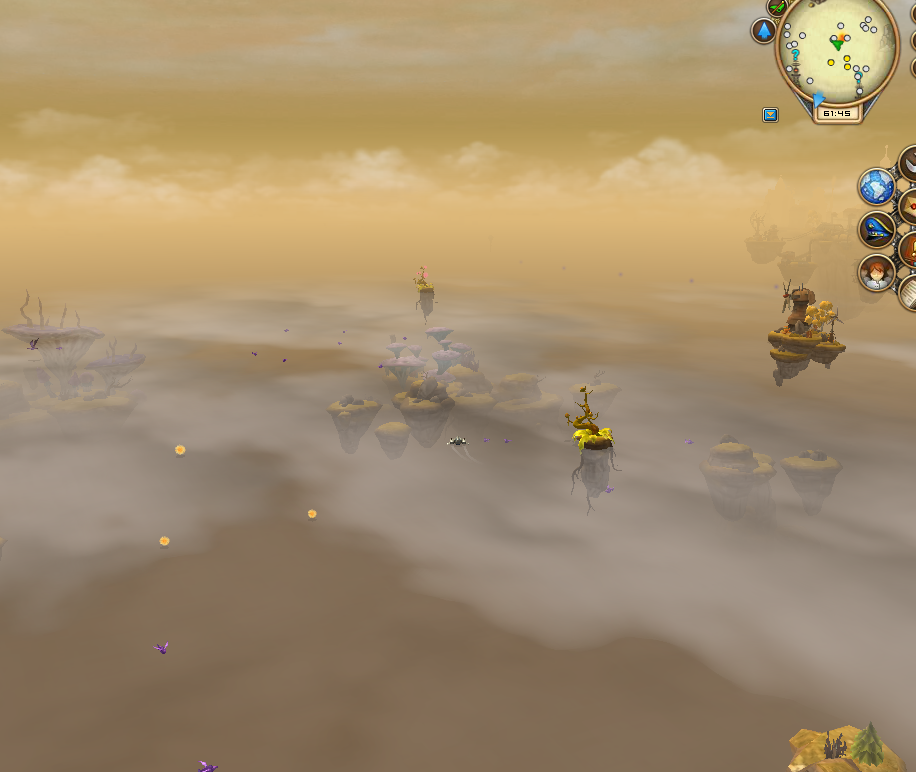dandelion-empty: (564, 381, 624, 502), (412, 263, 439, 320)
fluff: (169, 438, 191, 460), (155, 531, 175, 551), (303, 505, 321, 524)
